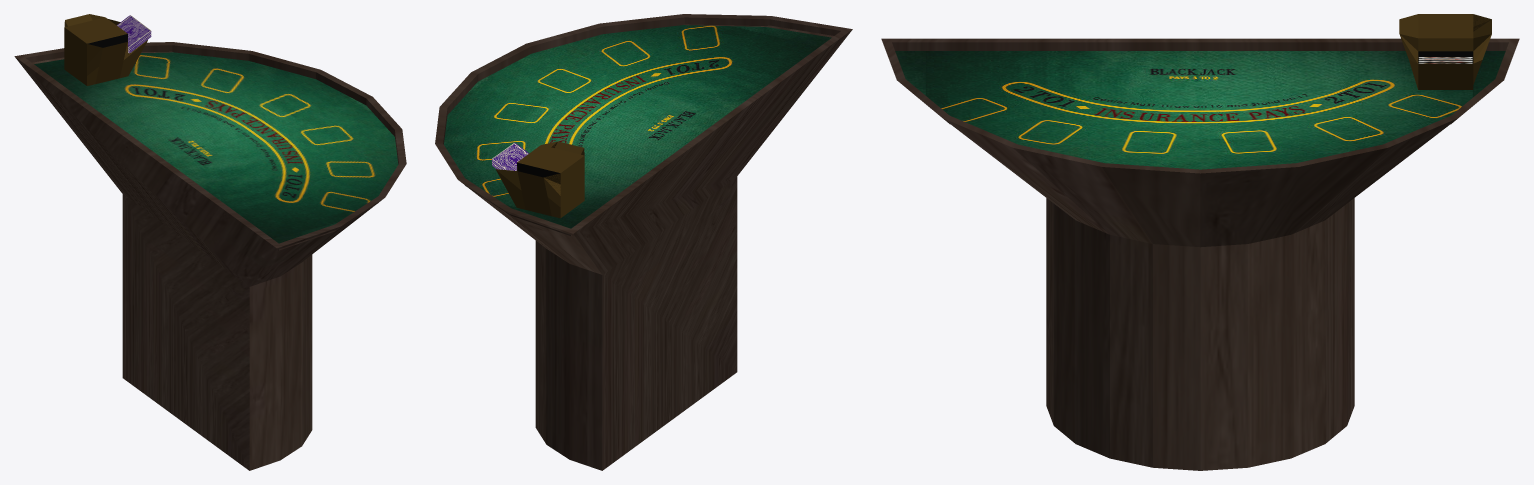
File: mesaBLACKJACK.glb
3 views of the same model, side by side, from view 1: azimuth 30°, elevation 25°; view 2: azimuth 150°, elevation 25°; view 3: azimuth 270°, elevation 25° (orthographic). The views are drawn at different scales.
Visible parts, largest first — view 1: Cilindro.005, Cubo.011, Cubo.014; view 2: Cilindro.005, Cubo.011, Cubo.014; view 3: Cilindro.005, Cubo.011.
Part boxes in pixels (bbox=[...]): Cilindro.005: bbox=[14, 42, 406, 470]; Cubo.011: bbox=[64, 14, 147, 85]; Cubo.014: bbox=[117, 15, 151, 48]; Cilindro.005: bbox=[435, 14, 852, 470]; Cubo.011: bbox=[495, 141, 584, 218]; Cubo.014: bbox=[492, 143, 528, 170]; Cilindro.005: bbox=[881, 38, 1519, 470]; Cubo.011: bbox=[1399, 14, 1491, 89].
Size of the model in its own units: 33.85 by 45.17 by 67.7.
Materials: 7 (5 with a texture image).
